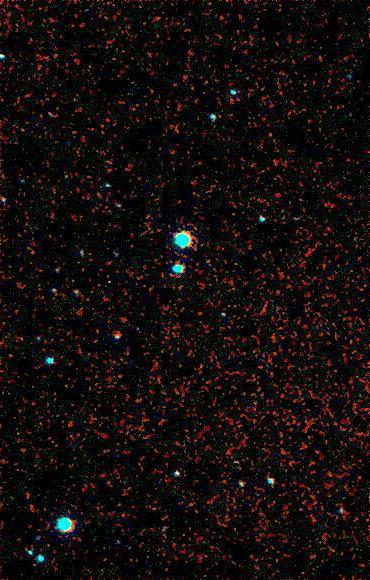star: (91, 265, 121, 295)
